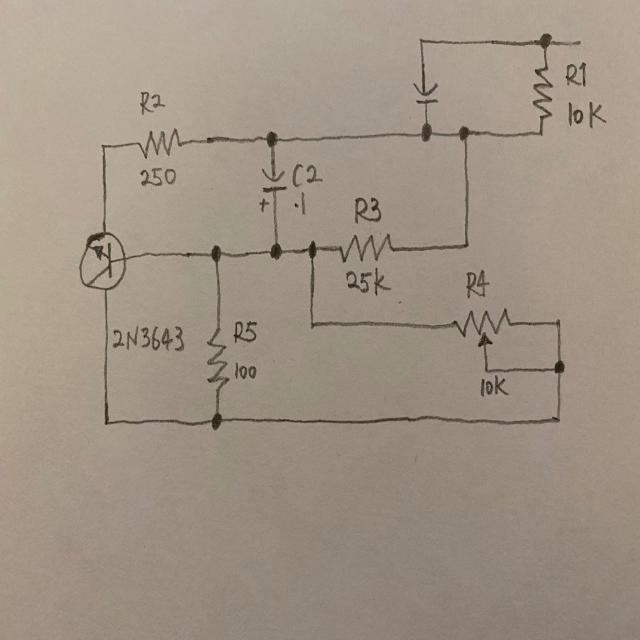capacitor: (257, 166, 288, 212), (412, 80, 443, 105)
junction: (257, 122, 287, 153), (203, 404, 230, 438), (264, 235, 287, 267), (535, 26, 556, 55), (416, 116, 436, 146), (453, 119, 476, 145), (204, 240, 227, 266), (548, 352, 568, 380), (548, 405, 568, 433), (546, 310, 568, 334), (302, 237, 323, 262), (98, 408, 117, 435), (414, 29, 432, 55), (457, 232, 475, 256), (304, 312, 321, 335), (95, 136, 113, 156), (533, 124, 547, 144), (482, 365, 490, 374)
resistor: (451, 304, 515, 348), (206, 324, 230, 398), (338, 232, 397, 262), (137, 126, 185, 160), (532, 63, 554, 121)
terminal: (568, 30, 592, 50)
text: (112, 325, 185, 356), (563, 98, 611, 132), (344, 267, 391, 298), (351, 193, 384, 229), (138, 162, 179, 188), (138, 84, 167, 118), (464, 267, 491, 302), (231, 316, 259, 348), (291, 160, 323, 188), (478, 373, 509, 401), (564, 59, 592, 90), (290, 191, 314, 219), (232, 358, 260, 381)
transistor: (75, 225, 131, 293)
